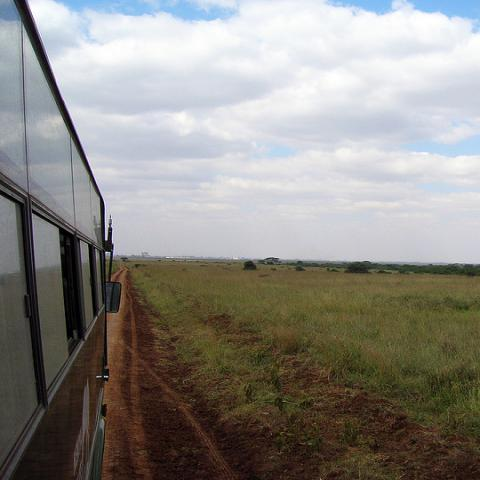bus: (0, 0, 123, 479)
